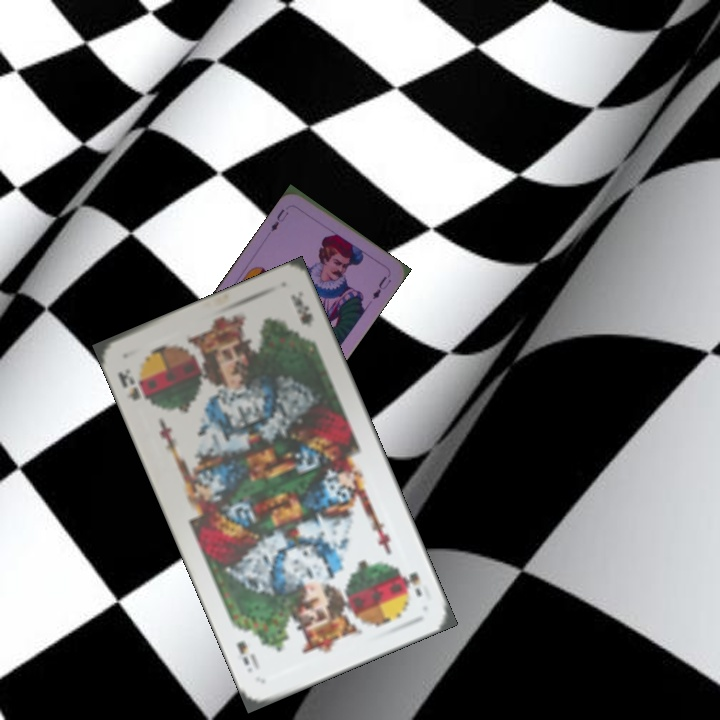EU: (267, 205, 291, 234)
SK: (113, 364, 145, 403), (399, 568, 425, 600)
